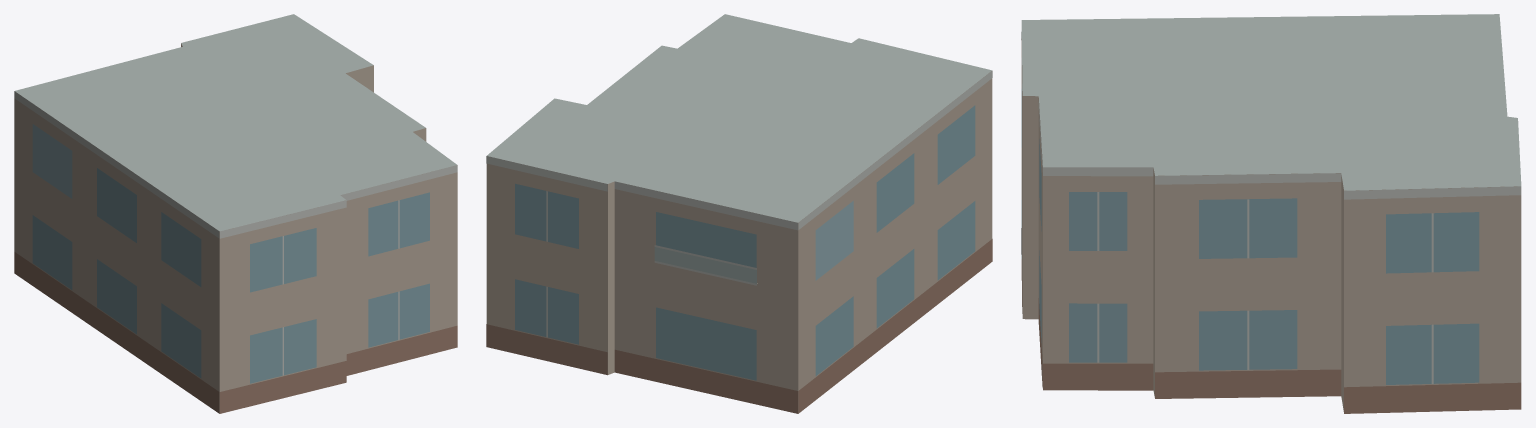
The model's file is survey-upis-32654845.glb.
3 views of the same model, side by side, from view 1: azimuth 30°, elevation 25°; view 2: azimuth 150°, elevation 25°; view 3: azimuth 270°, elevation 25° (orthographic). The views are drawn at different scales.
Visible parts, largest first — view 1: survey-upis-32654845.tmp; view 2: survey-upis-32654845.tmp; view 3: survey-upis-32654845.tmp.
Boxes of the visible parts, x1,y1,x2,y2 form: survey-upis-32654845.tmp: (14, 14, 457, 413); survey-upis-32654845.tmp: (486, 14, 992, 413); survey-upis-32654845.tmp: (1021, 14, 1521, 413).
Size of the model in its own units: 10.37 by 6.1 by 12.4.
